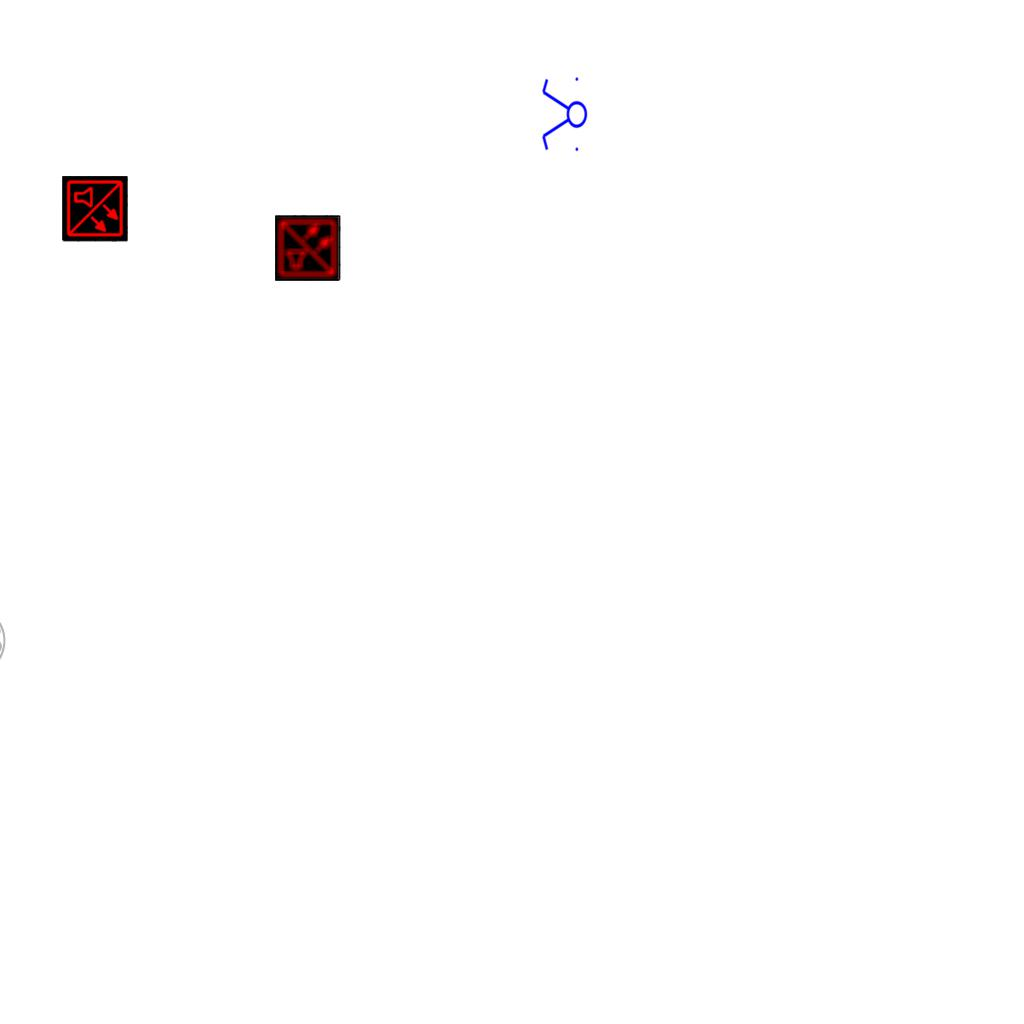OKW_Multisensormelder_(Kombination_optischer_Rauch-Kahlenmonoxid_Waerme-Melder): (62, 176, 128, 242), (275, 215, 341, 281)
Serienschalter: (540, 73, 588, 157)
